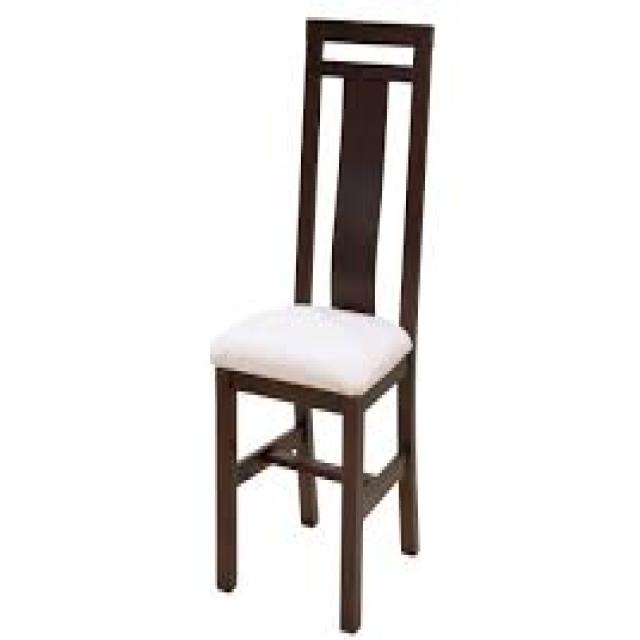bottle: (205, 10, 438, 632)
